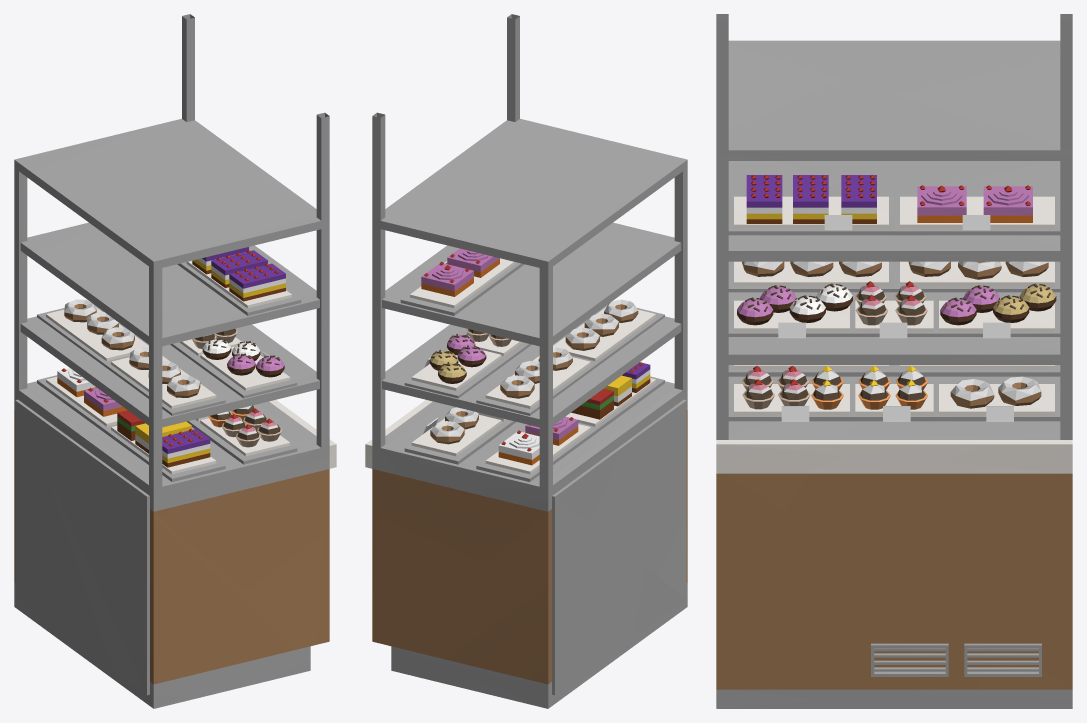
The model's file is SM_donutsCounter_06.glb.
3 views of the same model, side by side, from view 1: azimuth 30°, elevation 25°; view 2: azimuth 150°, elevation 25°; view 3: azimuth 270°, elevation 25° (orthographic). The views are drawn at different scales.
Visible parts, largest first — view 1: SM_donutsCounter_06; view 2: SM_donutsCounter_06; view 3: SM_donutsCounter_06.
Boxes of the visible parts, bbox=[...] form: SM_donutsCounter_06: bbox=[14, 14, 336, 708]; SM_donutsCounter_06: bbox=[365, 14, 687, 708]; SM_donutsCounter_06: bbox=[716, 14, 1072, 708].
Bounding box in the file's own units: 0.7689 × 2.17 × 1.
1 material, 1 textured.
